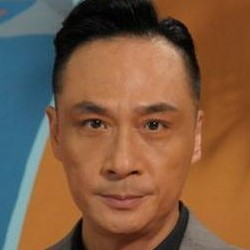unmask: (56, 83, 191, 235)
